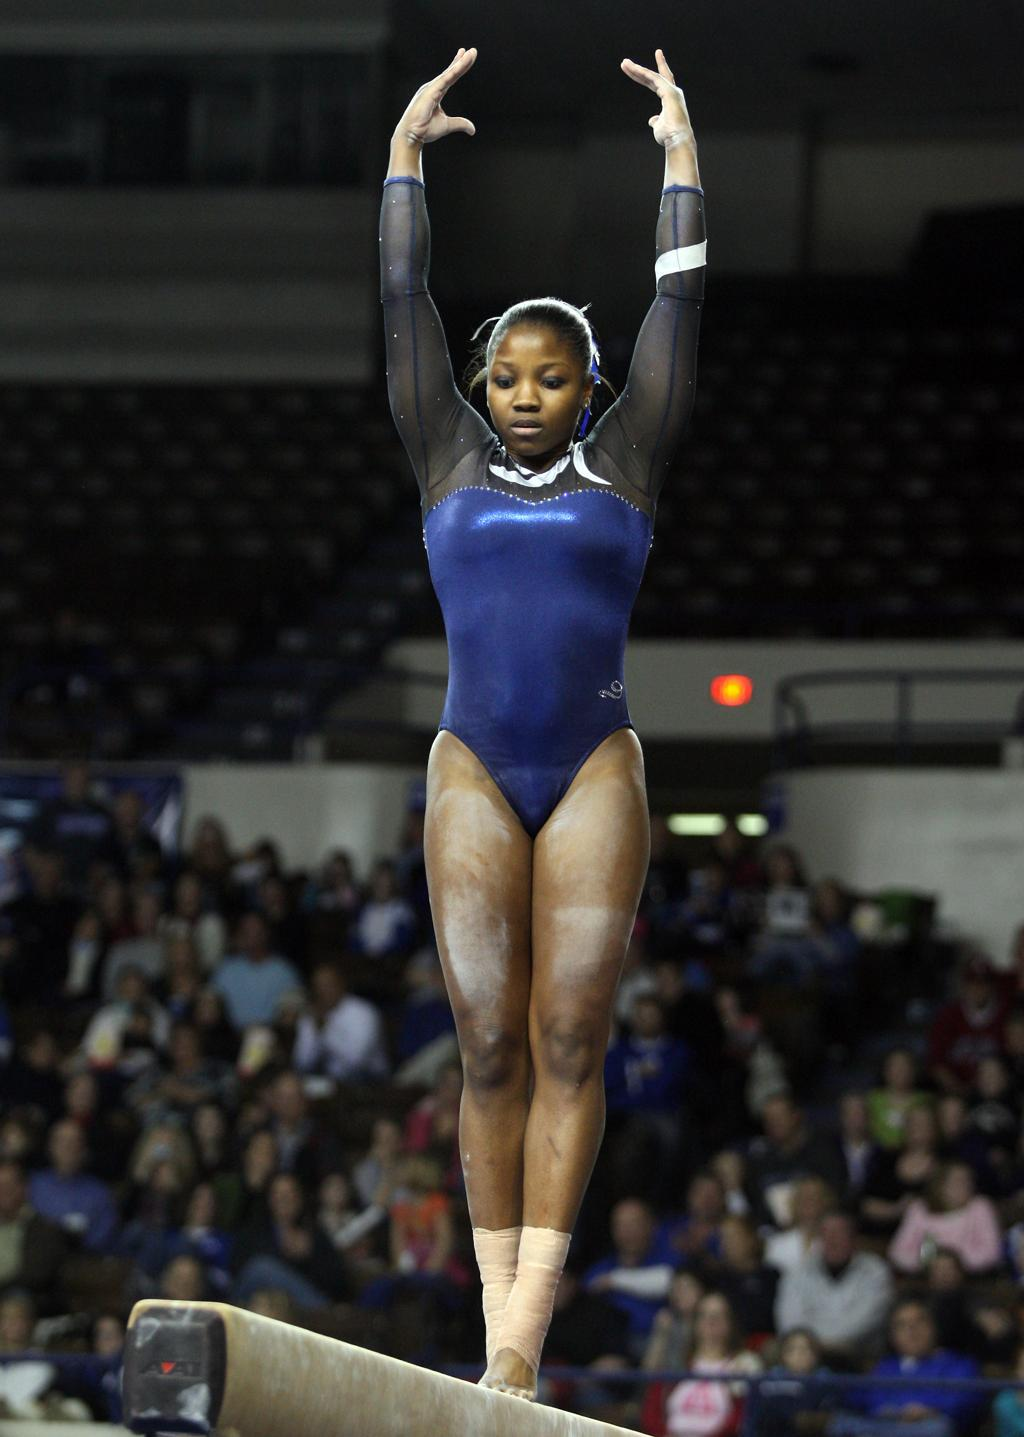face: (495, 321, 576, 444)
